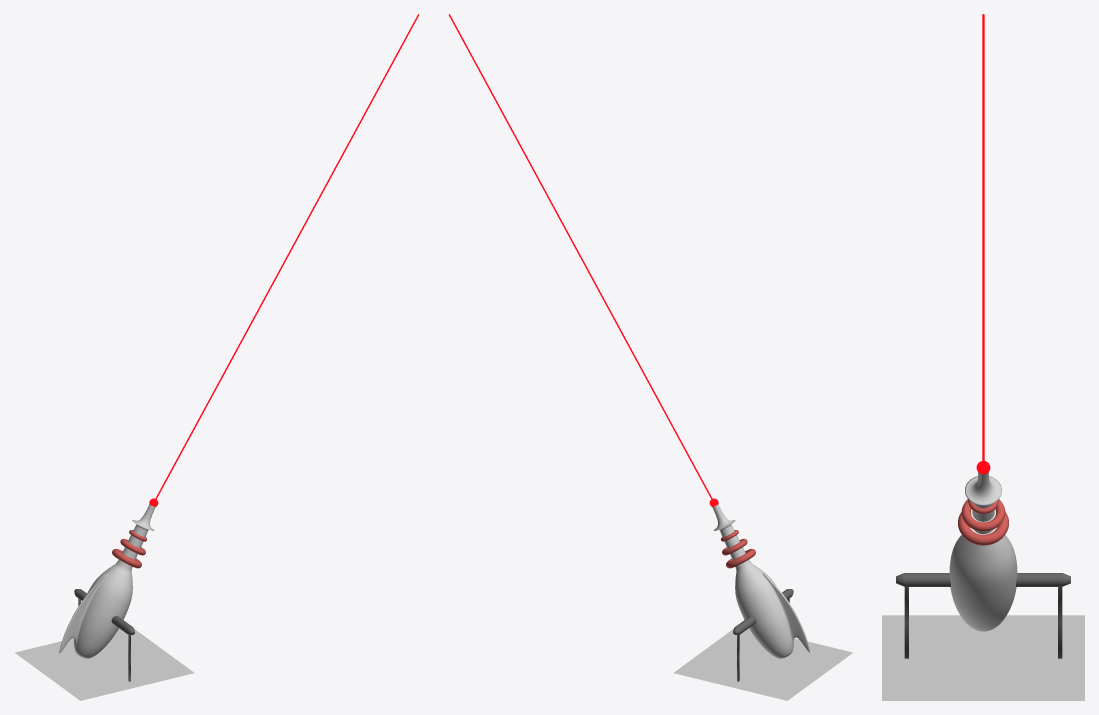
Rendered from Laser.fbx.
3 renders of one model, left to right at view 1: azimuth 30°, elevation 25°; view 2: azimuth 150°, elevation 25°; view 3: azimuth 270°, elevation 25°, orthographic. The views are drawn at different scales.
Visible parts, largest first — view 1: Plane, Cylinder, NurbsPath; view 2: Plane, Cylinder, NurbsPath; view 3: Plane, Cylinder, Cylinder.001, NurbsPath, BezierCircle.001, BezierCircle.
Boxes of the visible parts, x1=… form: Plane: x1=15, y1=628, x2=194, y2=700; Cylinder: x1=59, y1=504, x2=155, y2=658; NurbsPath: x1=155, y1=14, x2=419, y2=499; Plane: x1=673, y1=628, x2=852, y2=700; Cylinder: x1=712, y1=504, x2=809, y2=658; NurbsPath: x1=448, y1=14, x2=712, y2=499; Plane: x1=882, y1=615, x2=1084, y2=700; Cylinder: x1=949, y1=472, x2=1017, y2=631; Cylinder.001: x1=896, y1=573, x2=1070, y2=658; NurbsPath: x1=982, y1=14, x2=984, y2=464; BezierCircle.001: x1=958, y1=512, x2=1008, y2=545; BezierCircle: x1=961, y1=499, x2=1005, y2=531.
Size of the model in its own units: 2567 by 3779 by 789.
